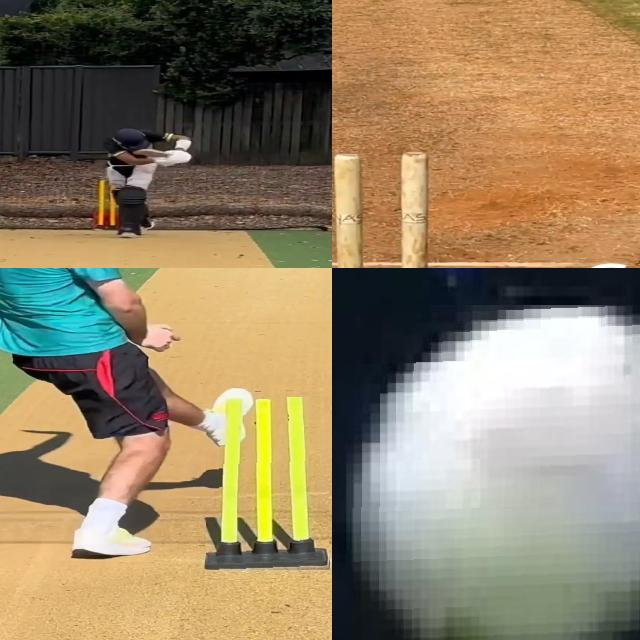Cricket ball: (348, 304, 640, 640)
Stumps: (207, 397, 331, 574), (332, 150, 433, 268)
